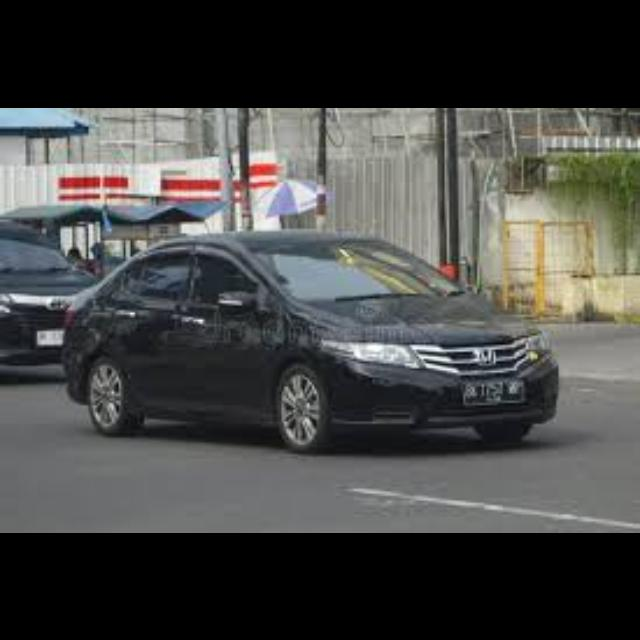vehicles: (42, 224, 564, 458), (0, 230, 98, 366)
